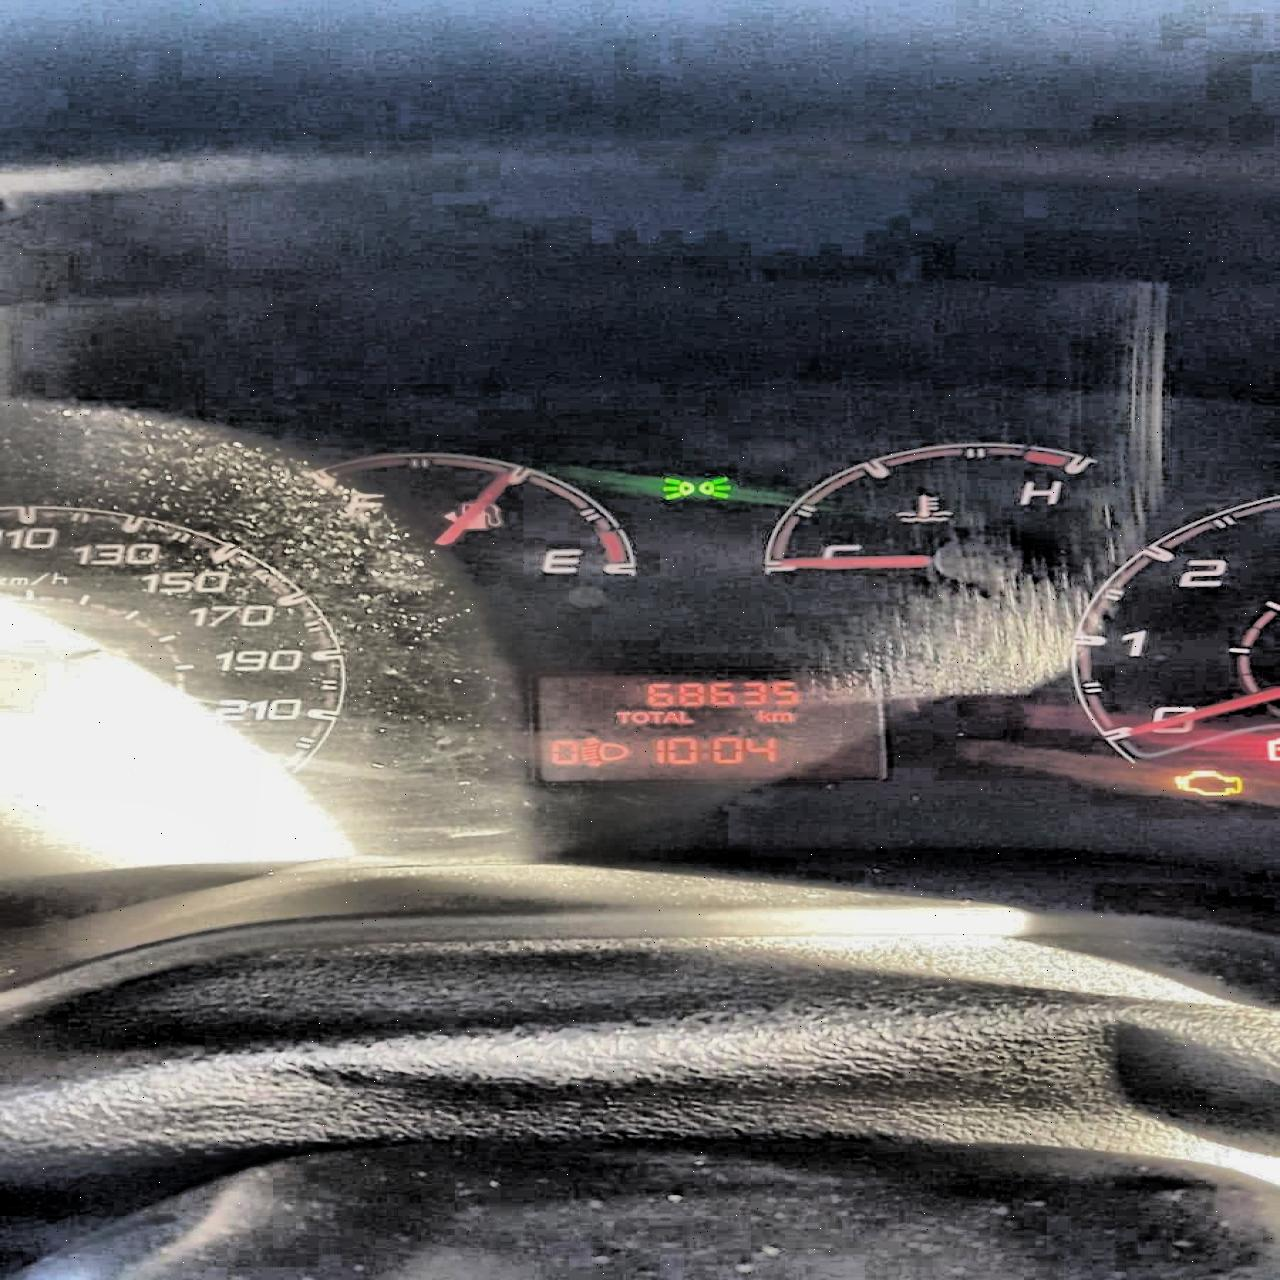0: (712, 735, 744, 764), (666, 736, 694, 764), (549, 738, 577, 764)
1: (652, 737, 667, 763)
3: (740, 680, 771, 706)
4: (744, 737, 779, 763)
5: (771, 681, 798, 706)
6: (642, 682, 672, 707), (707, 681, 735, 706)
8: (675, 681, 706, 706)
X: (770, 710, 794, 722), (613, 710, 632, 724), (632, 709, 647, 724), (755, 709, 772, 722), (675, 710, 693, 723), (661, 709, 675, 724), (699, 740, 708, 762), (647, 710, 661, 724)
odometer: (526, 669, 892, 785)
